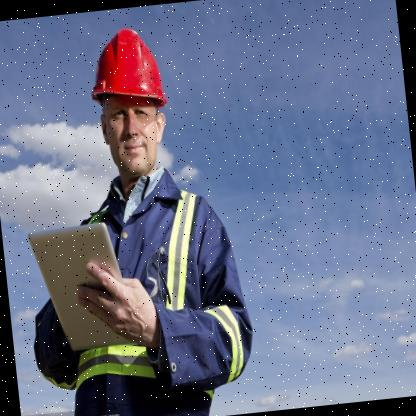capacete: (82, 20, 172, 114)
